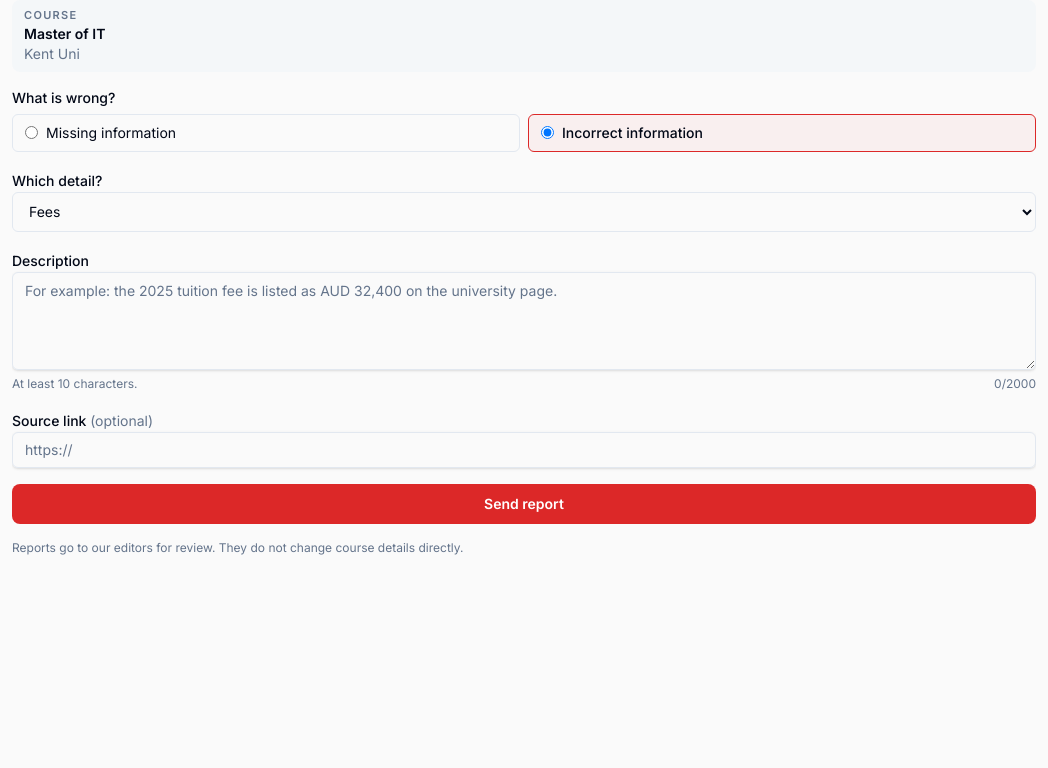
Test: ReportCourseErrorForm › validates description and source url without submitting
Replace the text in the text box with test id "input-report-message" with "short" at coordinates (524, 321), box [12, 272, 1036, 370]
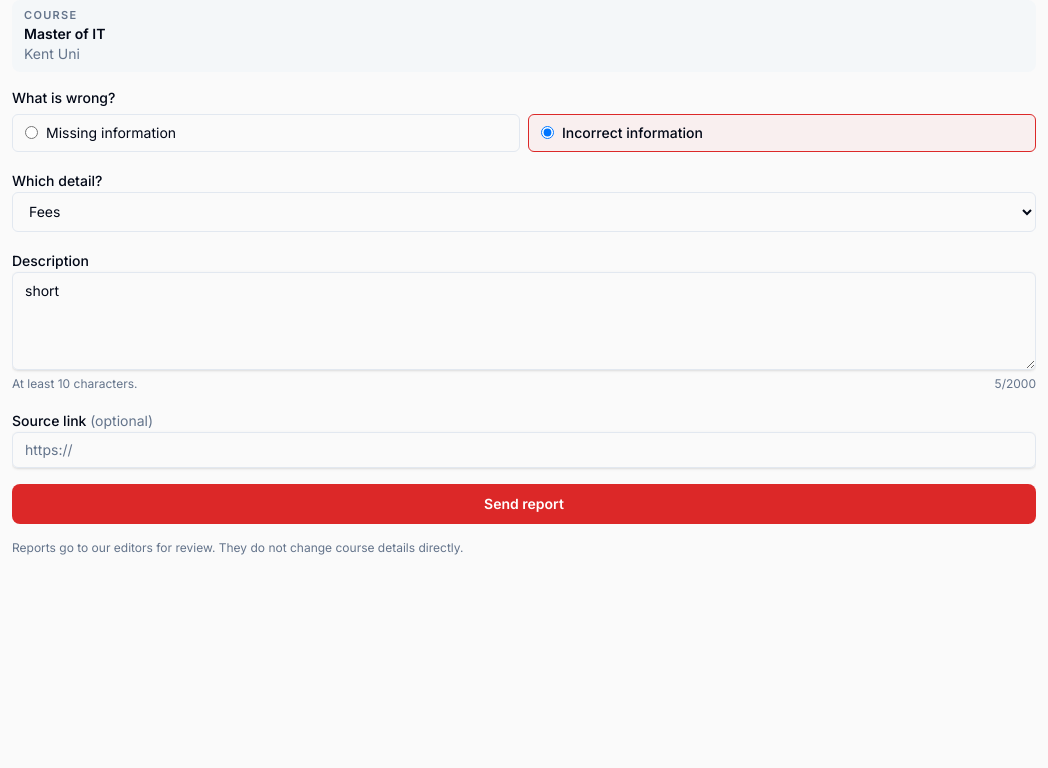
Type "ftp://x" into the field with test id "input-report-source" at coordinates (524, 450), box [12, 432, 1036, 468]
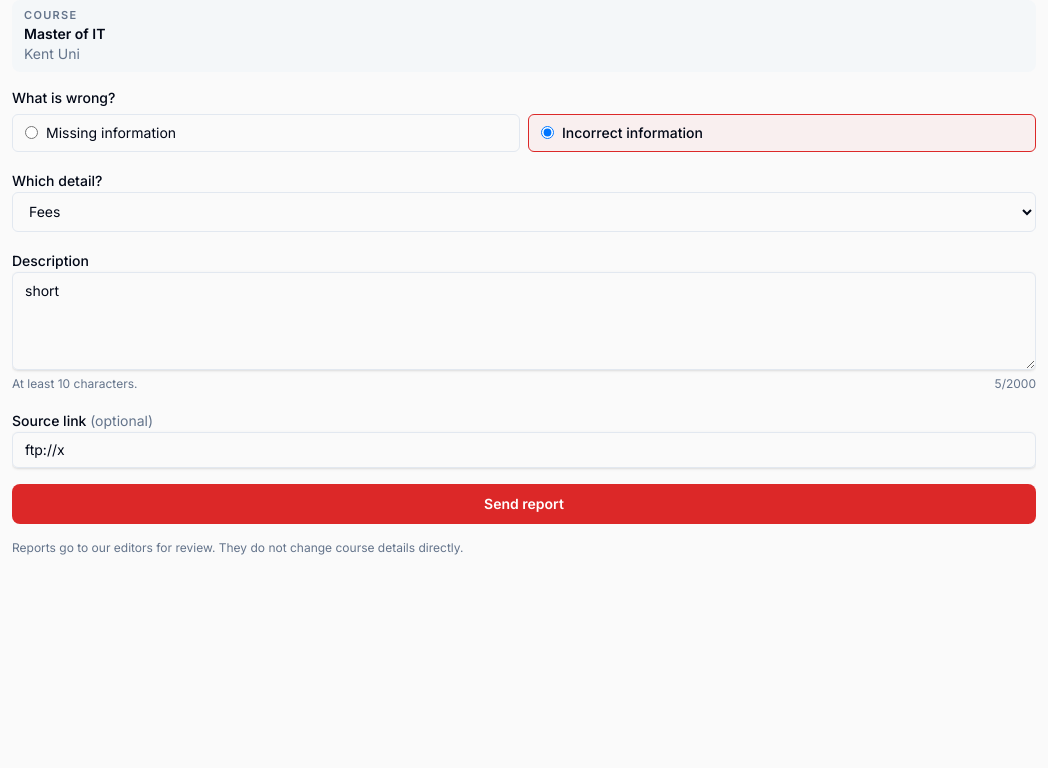
Click the button with test id "button-report-submit" at coordinates (524, 504), box [12, 484, 1036, 524]
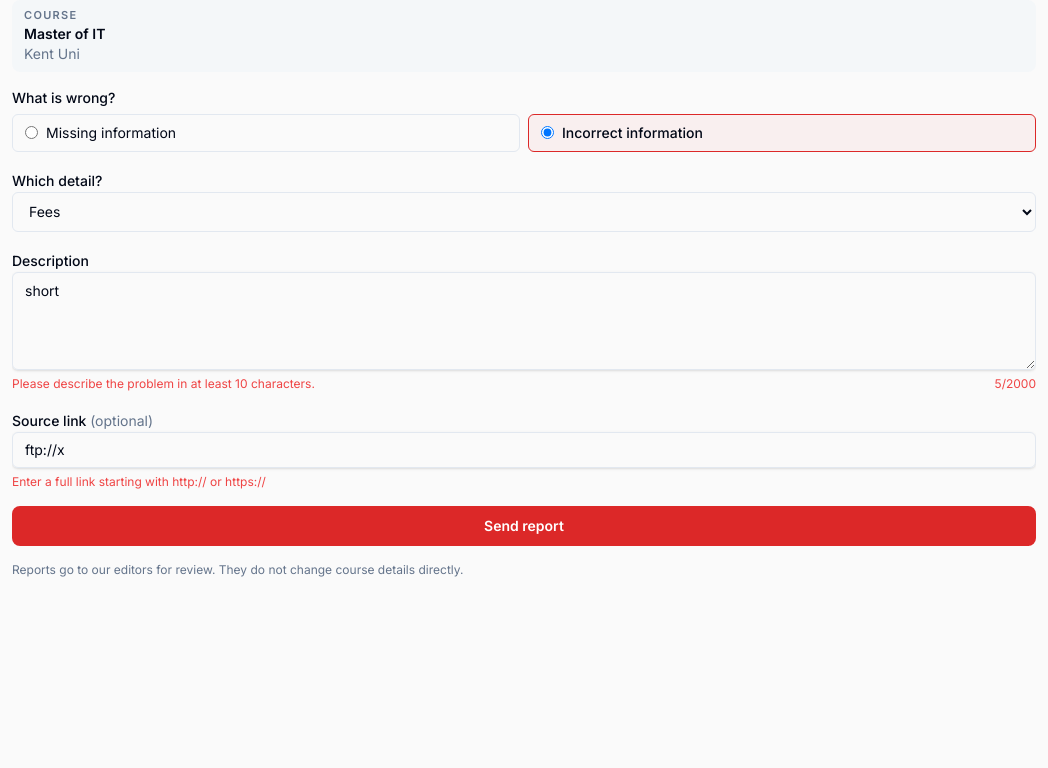
Check: the text with test id "error-report-message" shows "at least 10", box [12, 376, 315, 391]
Check: the text "Enter a full link starting with http:// or https://" is shown, box [12, 474, 266, 489]
Replace the text in the text box with test id "input-report-message" with "A required English score is missing." at coordinates (524, 321), box [12, 272, 1036, 370]
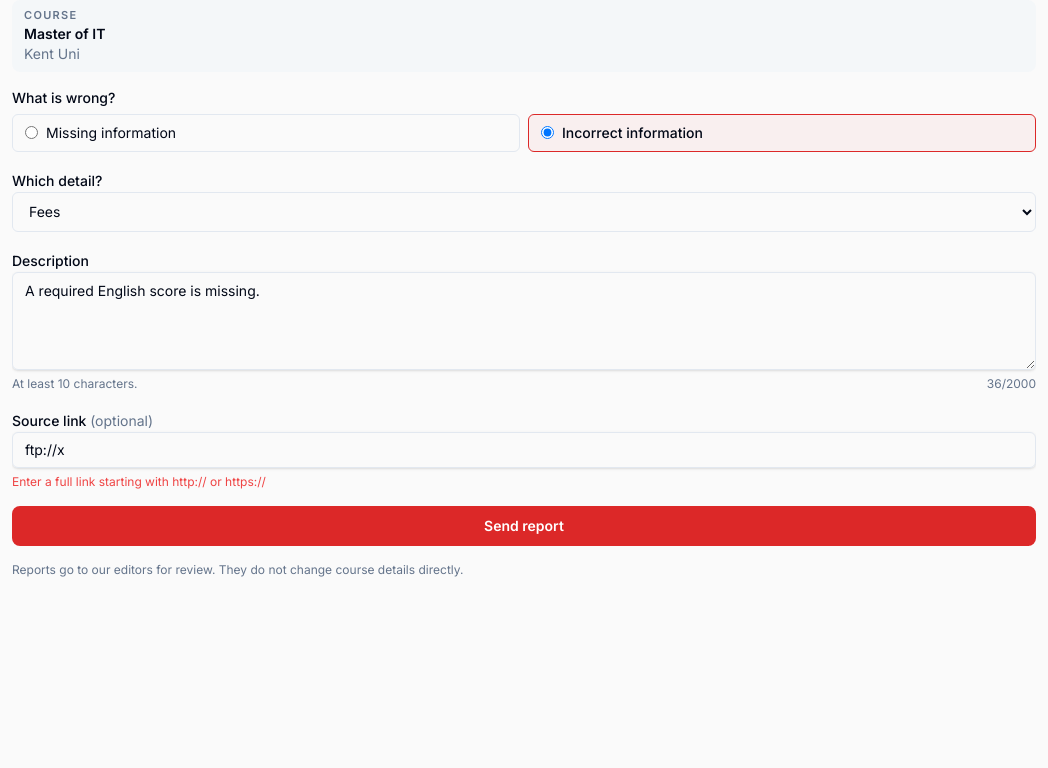
Replace the text in the field with test id "input-report-source" with "https://example.edu/course" at coordinates (524, 450), box [12, 432, 1036, 468]
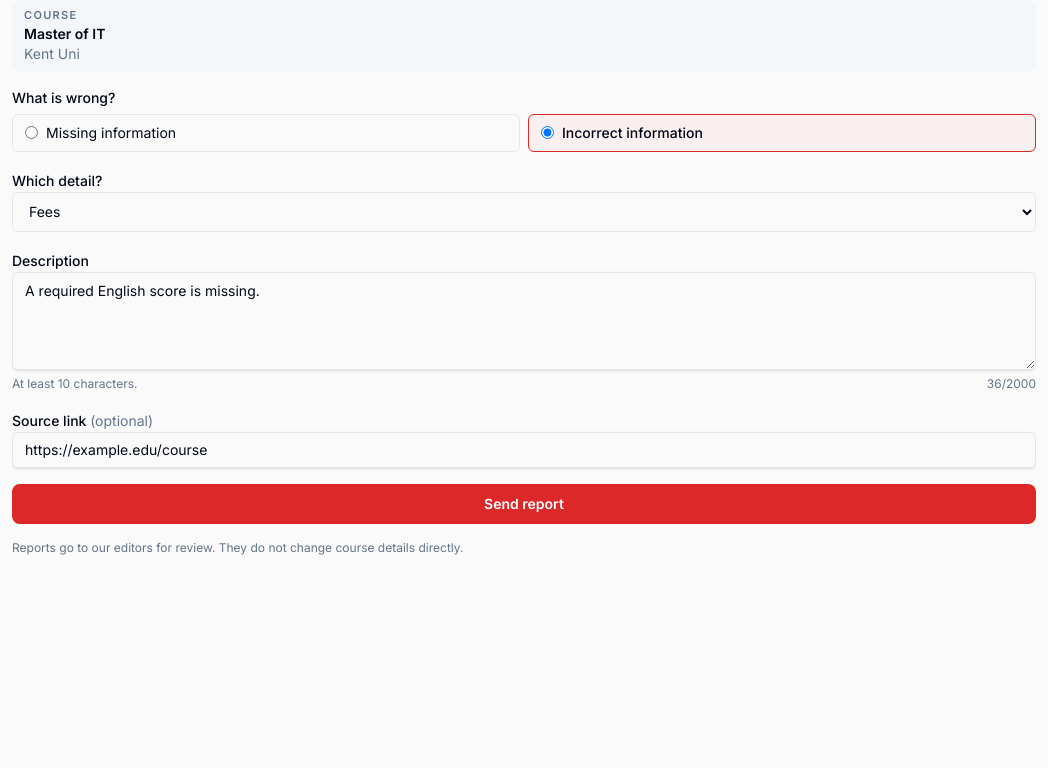
Check: the element with test id "error-report-message" does not show "at least 10 characters"
Check: the text with test id "error-report-source" is gone
